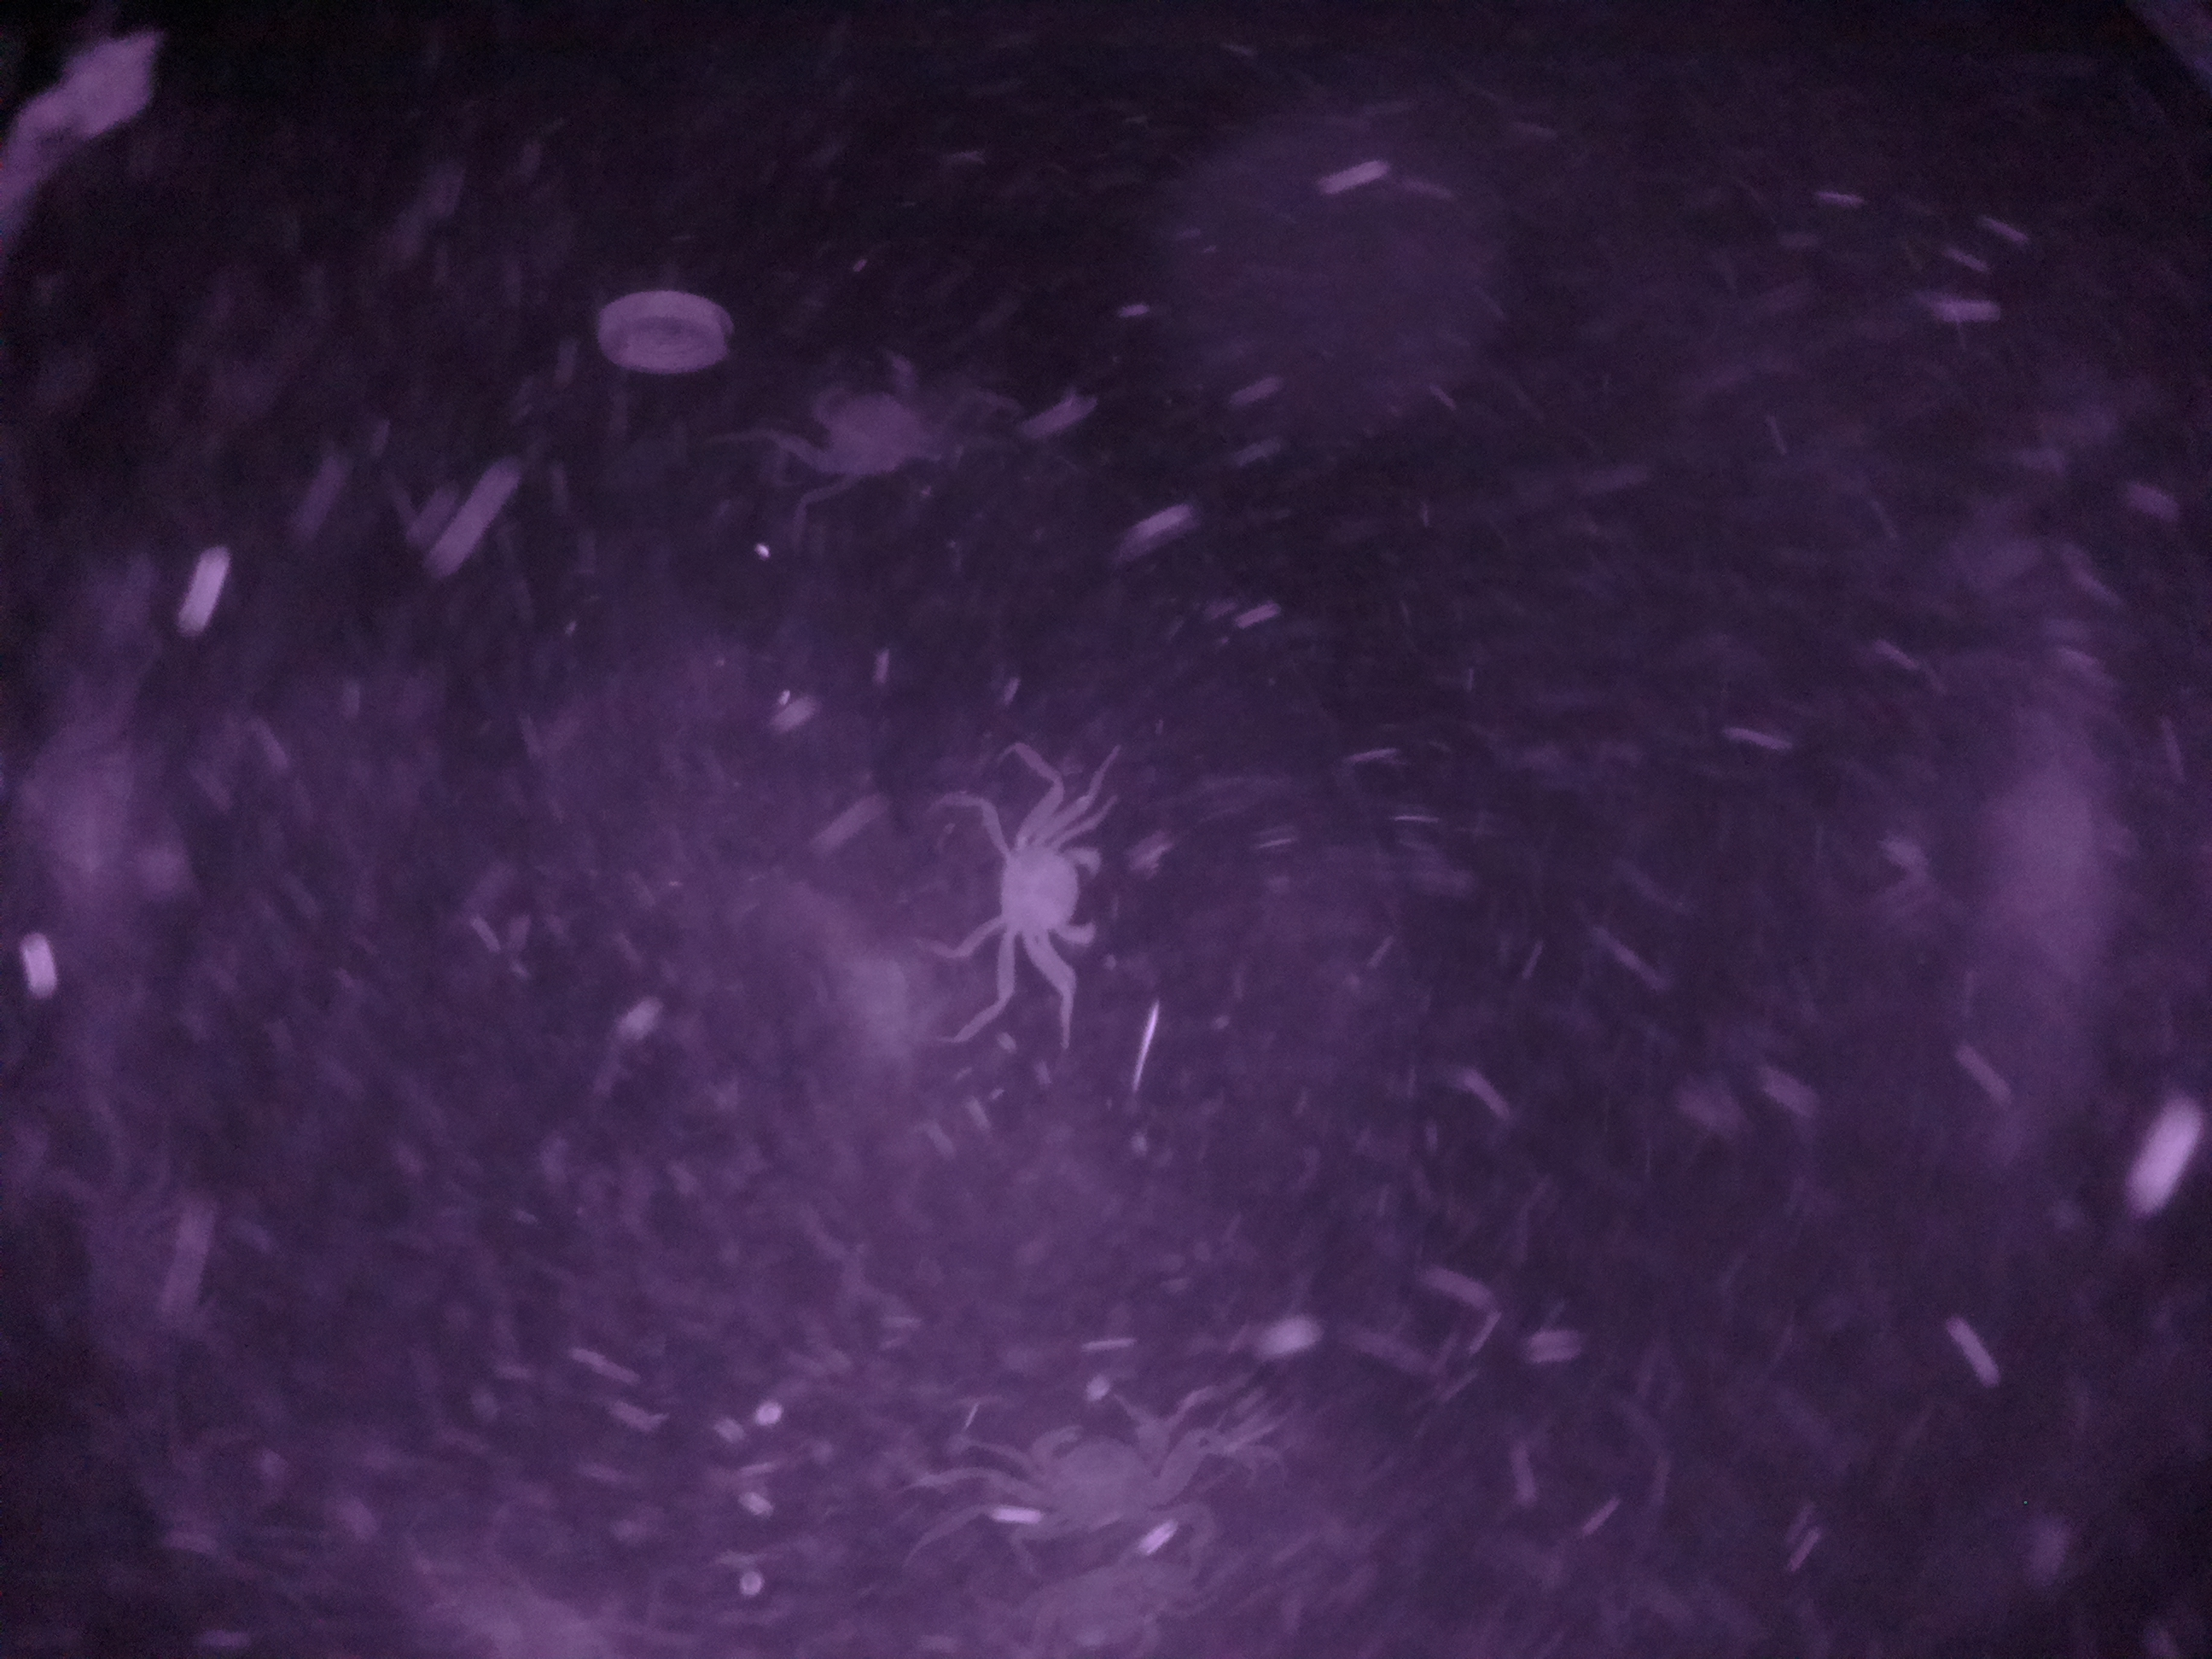Crab: (951, 775, 1113, 1021)
